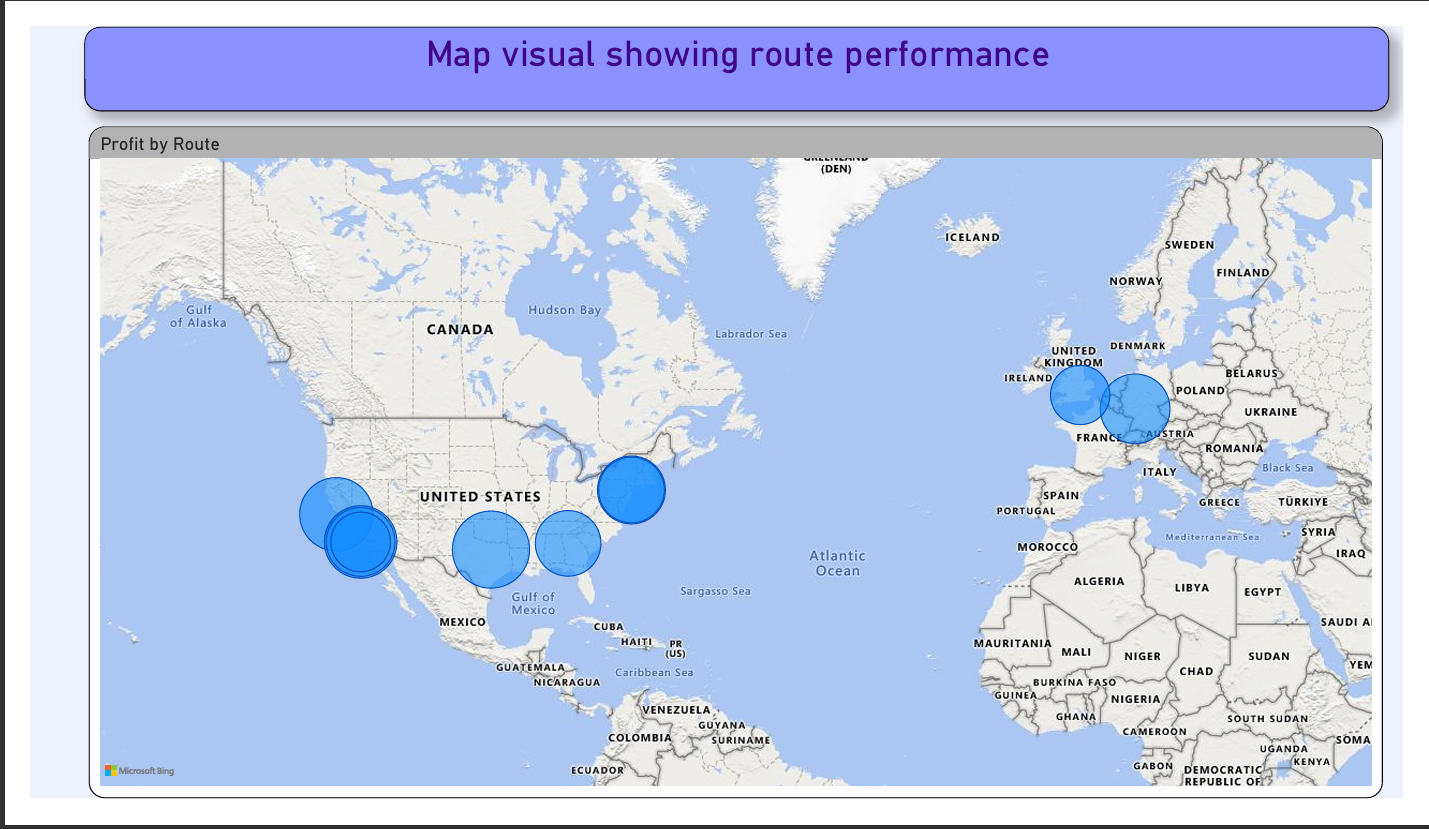

Layout of this report page (visuals, bound fields, positions):
{"tool":"powerbi","page":{"name":"Map visual","canvas":[1280,720],"ordinal":1},"visuals":[{"type":"map","title":"Profit by Route","fields":{"Category":["AirlinePerformance.Route"],"Size":["Sum(AirlinePerformance.Profit)"]},"box":[54.3,92.9,1207.1,627.1],"z":0},{"type":"textbox","title":"Map visual showing route performance","box":[50,0,1217.1,78.6],"z":1000}]}

Visuals, with their boxes in screenshot pixels (x1, y1, x2, y2):
"Profit by Route" map: crop(0, 106, 1377, 822)
"Map visual showing route performance" textbox: crop(0, 0, 1383, 90)
